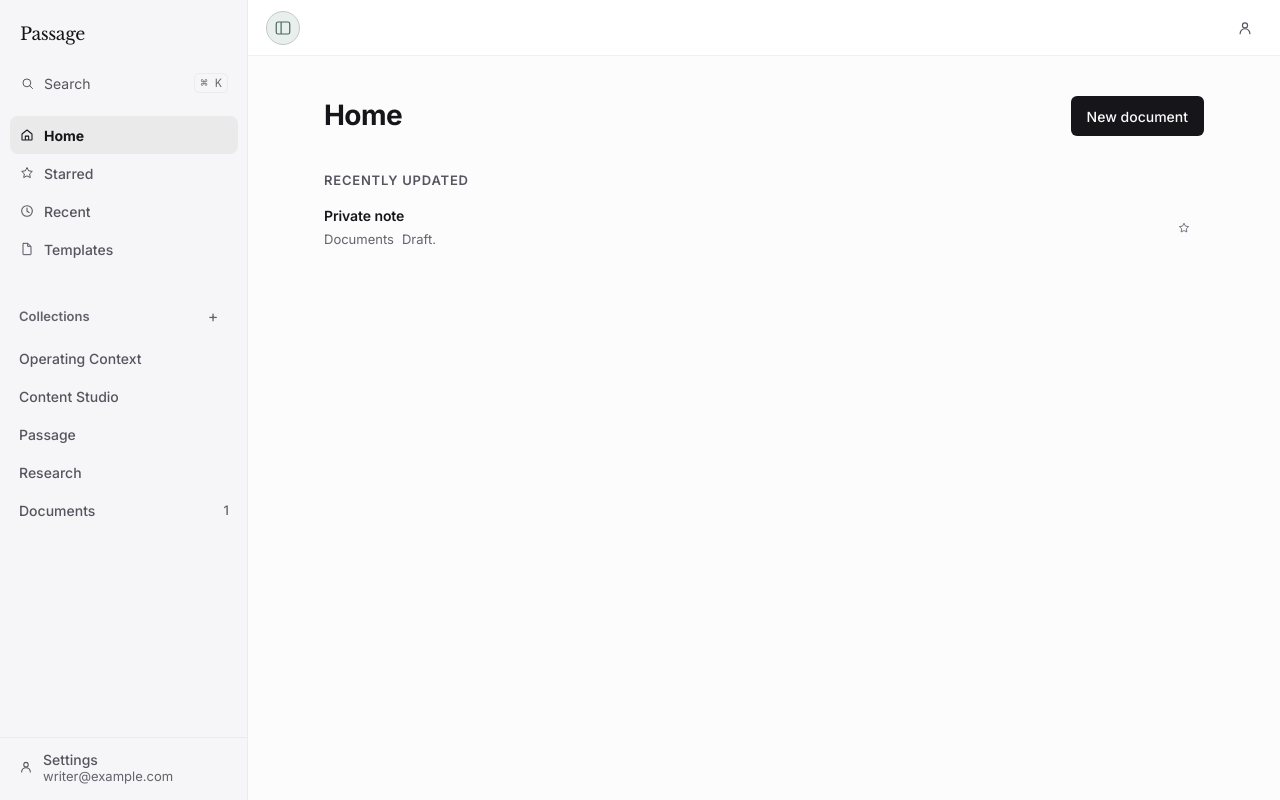
Test: Write (editor) › persists a document move before showing it in the new collection
Click the button with class "workspaceDocumentOpen" at (364, 216), box [324,194,1168,262]
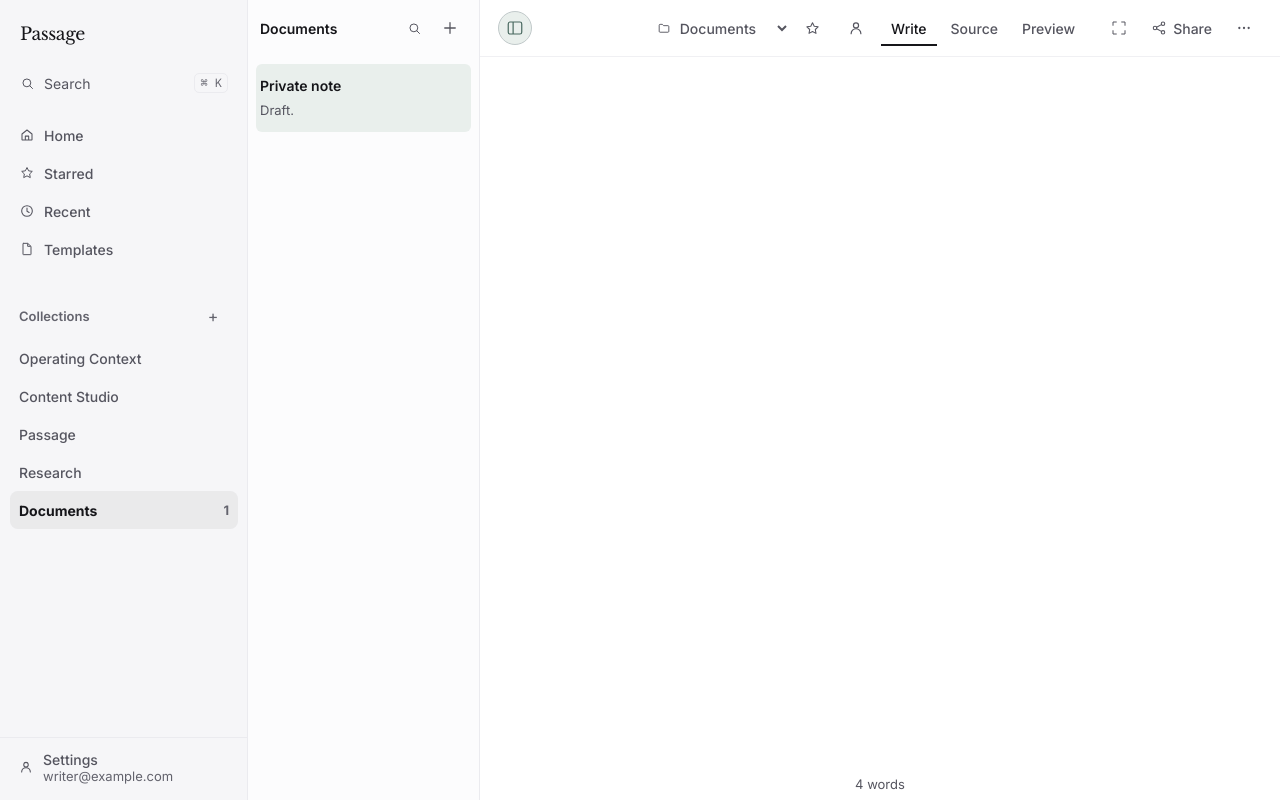
Select "Research" in the dropdown named "Collection for Private note" at (719, 28), box [647,11,791,45]
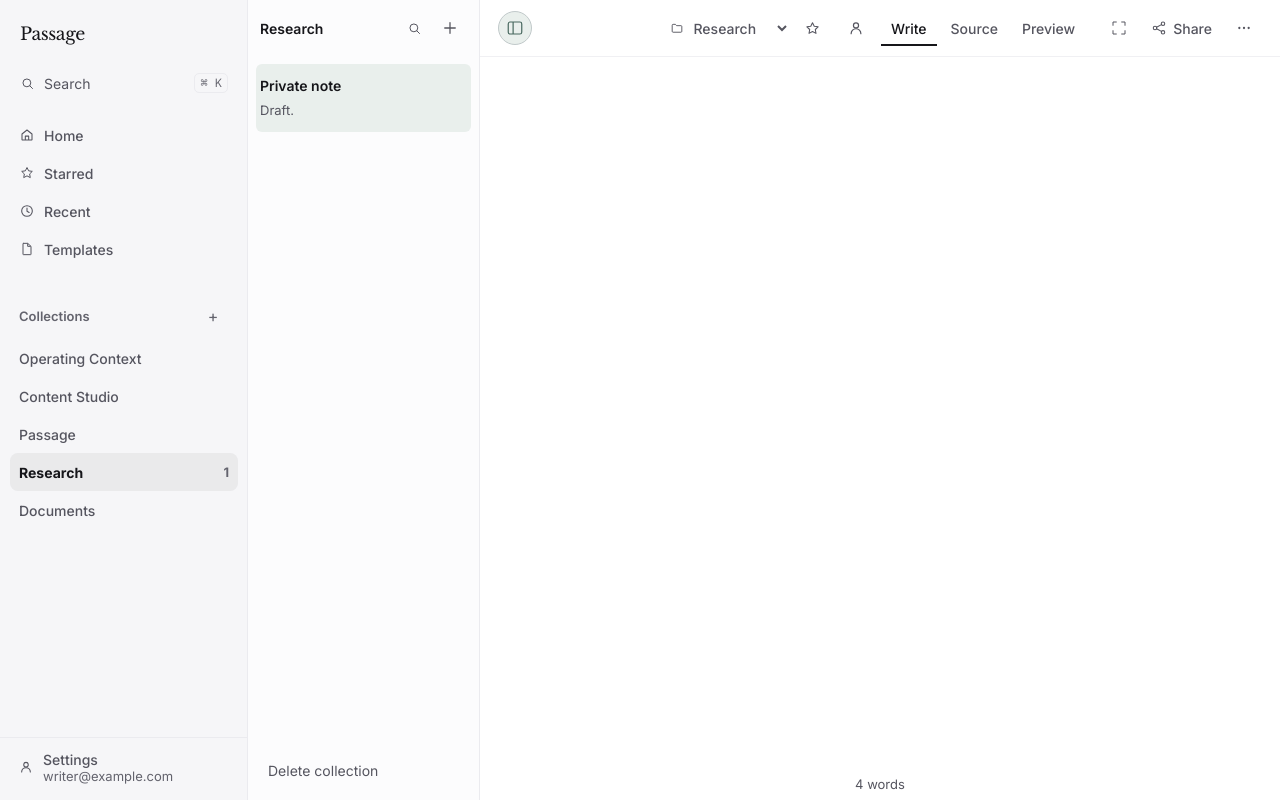
Check: the dropdown named "Collection for Private note" is enabled, box [660,11,791,45]
Click the button "Home" at (124, 135), box [10,116,238,154]
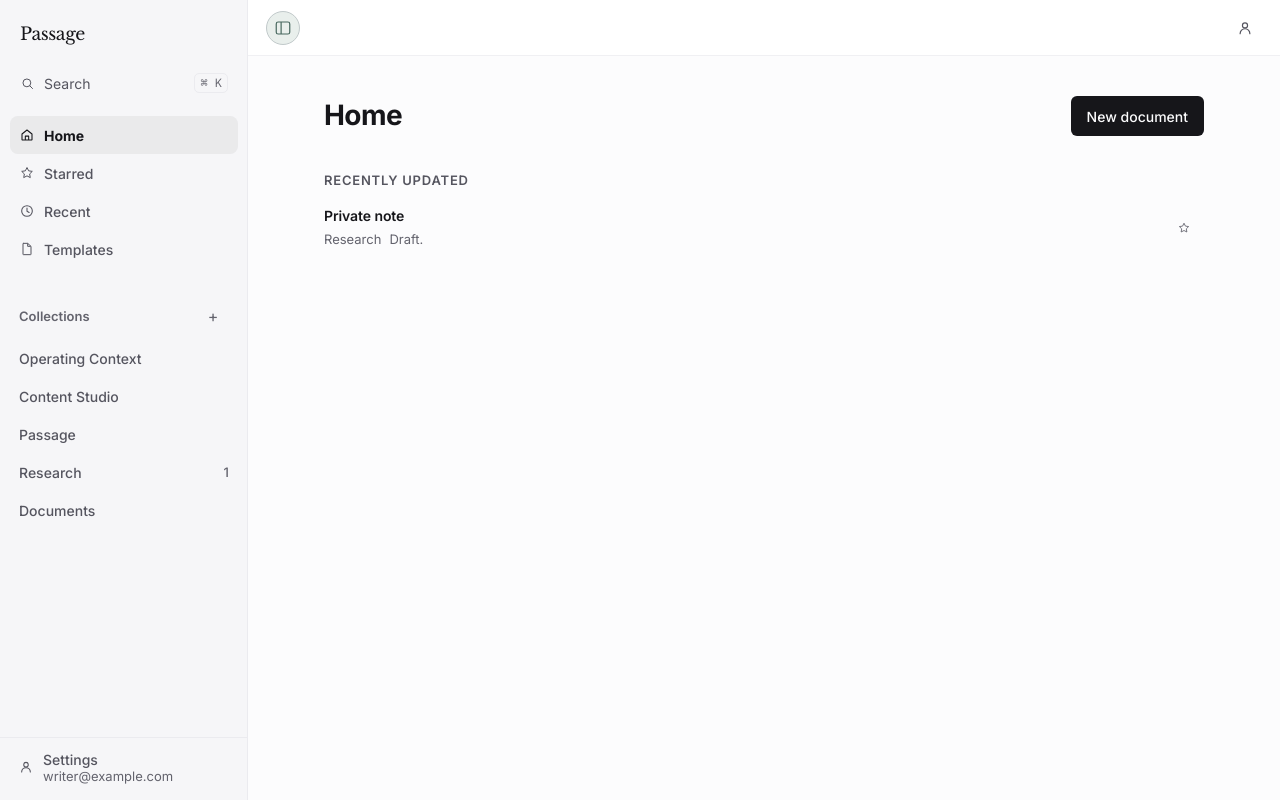
Click the button "Research 1" at (124, 472), box [10,453,238,491]
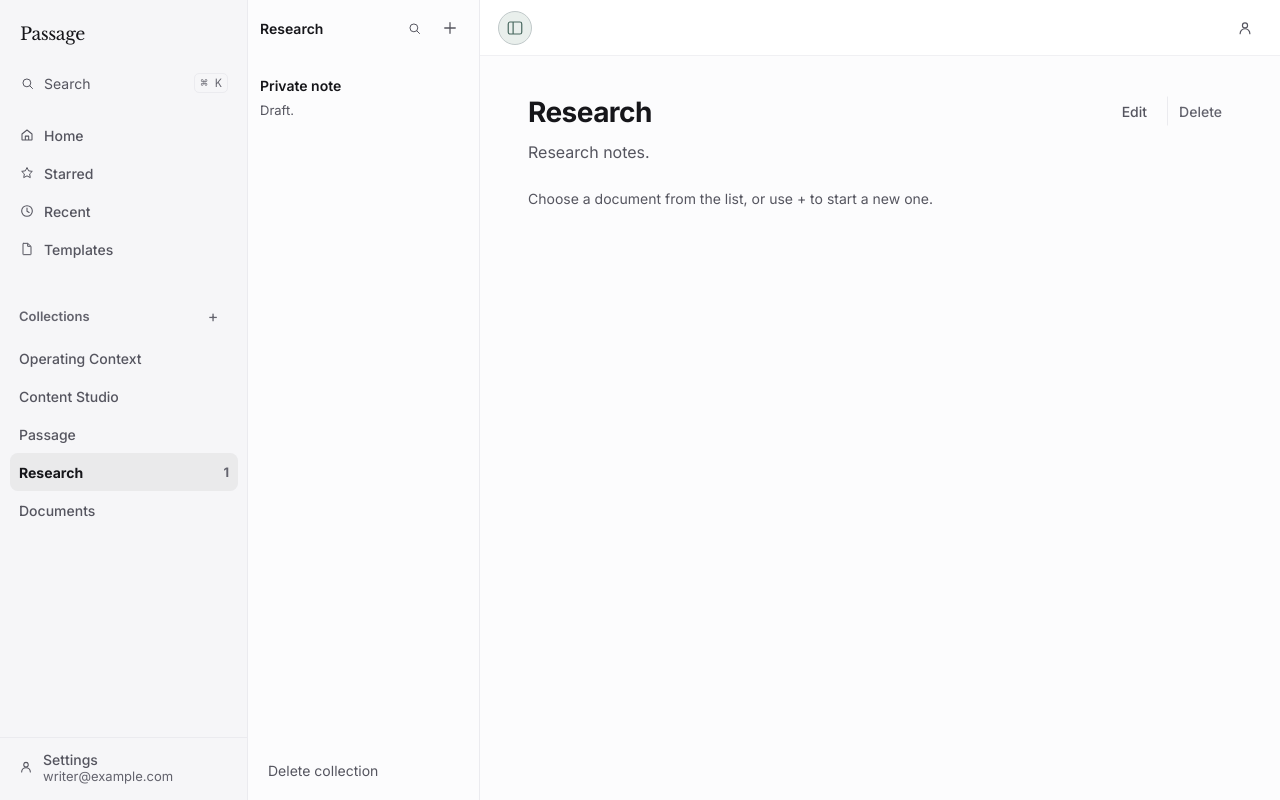
Check: the navigation bar named "Documents in Research" shows "Private note", box [256,64,471,132]
Check: the element labelled "Research" shows "Research notes.", box [528,142,650,162]
